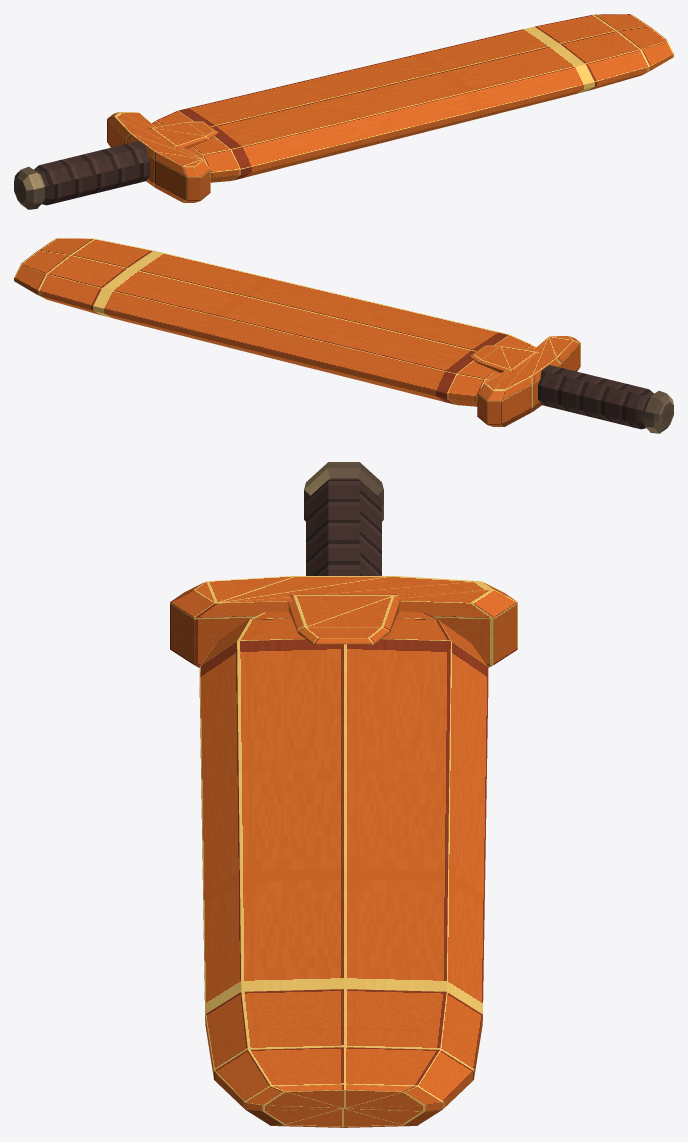
The model's file is bench_xuanyue_zhenshan_sword_5_hot.obj.
3 views of the same model, one above another, from view 1: azimuth 30°, elevation 25°; view 2: azimuth 150°, elevation 25°; view 3: azimuth 270°, elevation 25° (orthographic). The views are drawn at different scales.
Visible parts, largest first — view 1: geometry; view 2: geometry; view 3: geometry.
Boxes of the visible parts, bbox=[...] form: geometry: bbox=[14, 14, 673, 209]; geometry: bbox=[14, 238, 673, 433]; geometry: bbox=[170, 462, 517, 1127].
Bounding box in the file's own units: 0.75 × 0.0424 × 0.1791.
